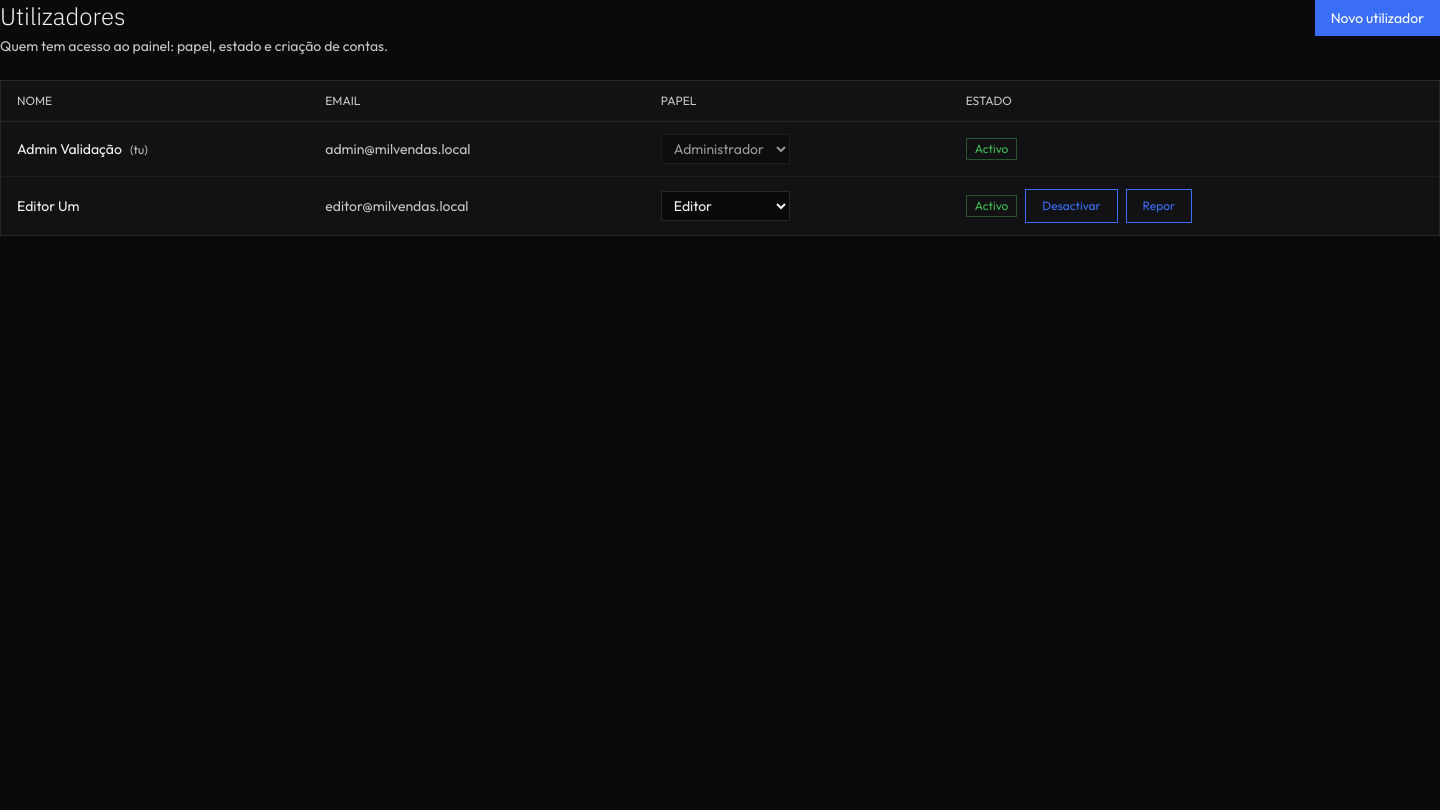
UsersPage › criação envia payload exacto {name,email,role,password}
The width and height of the screenshot is (1440, 810).
expect the text "Editor Um" is shown: met, box [1,176,309,235]
Click the button "Novo utilizador". click: (1377, 18)
box: [1315,0,1439,36]
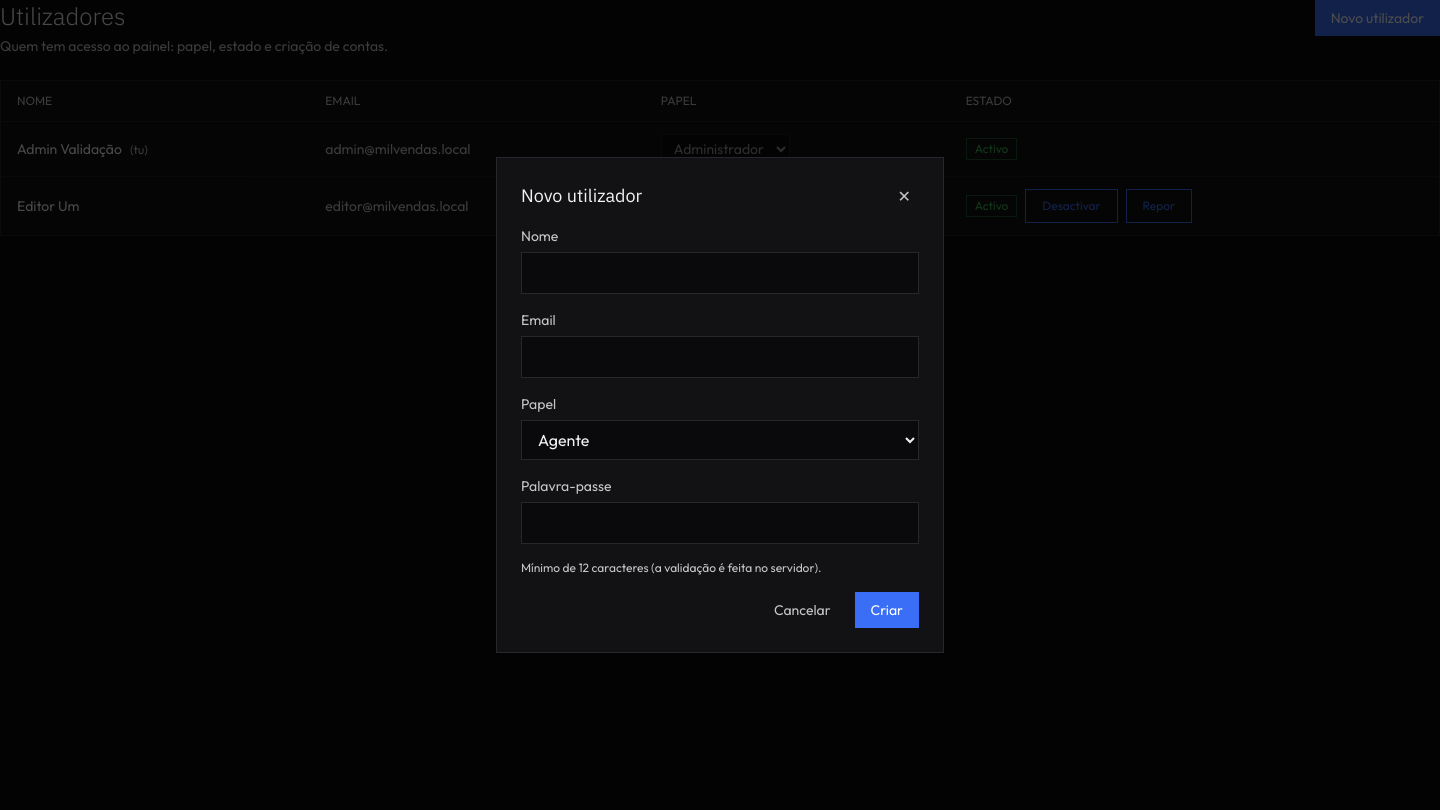
Type "Nova" into the field labelled "Nome". click: (720, 273)
box: [521,252,919,294]
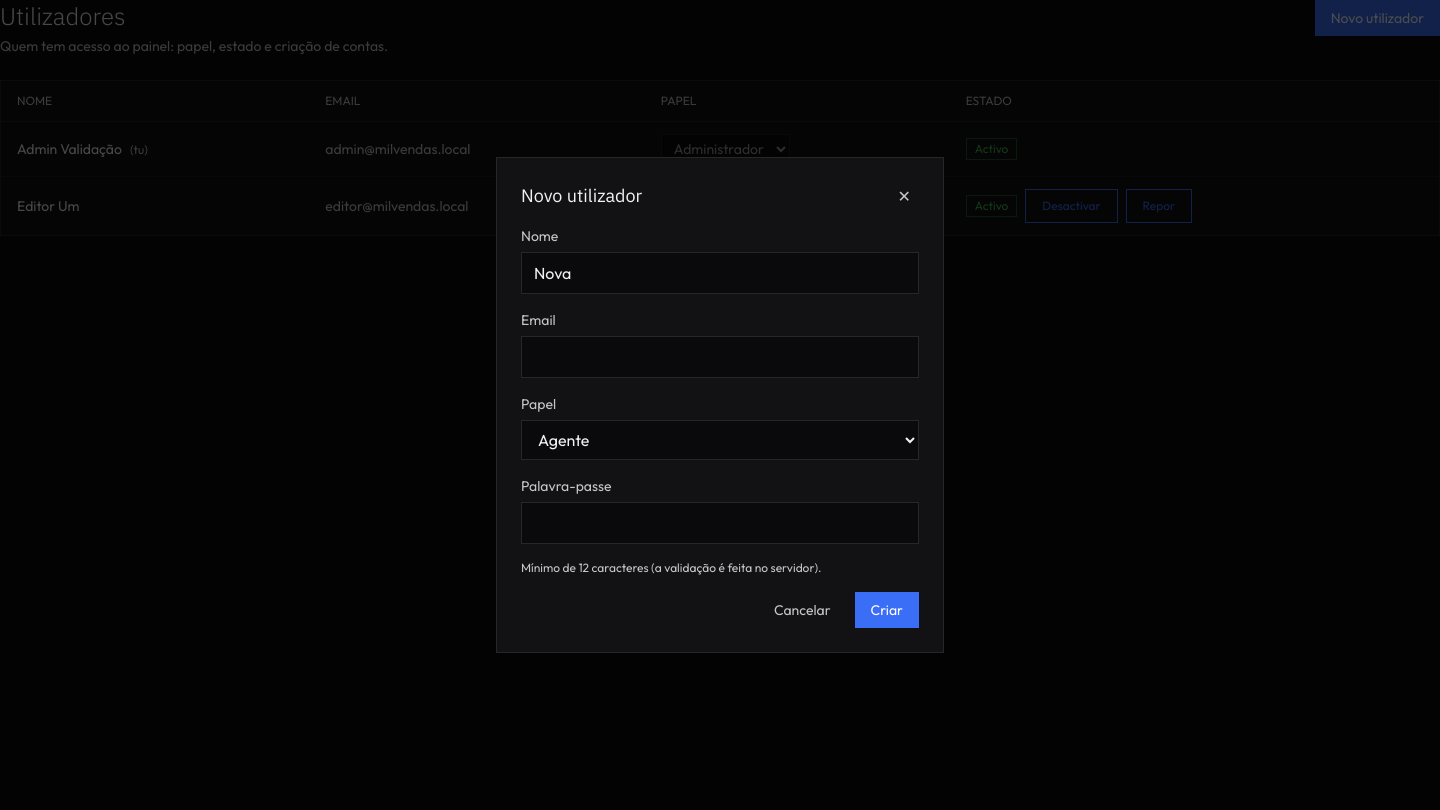
Type "nova@milvendas.local" into the field labelled "Email". click: (720, 357)
box: [521,336,919,378]
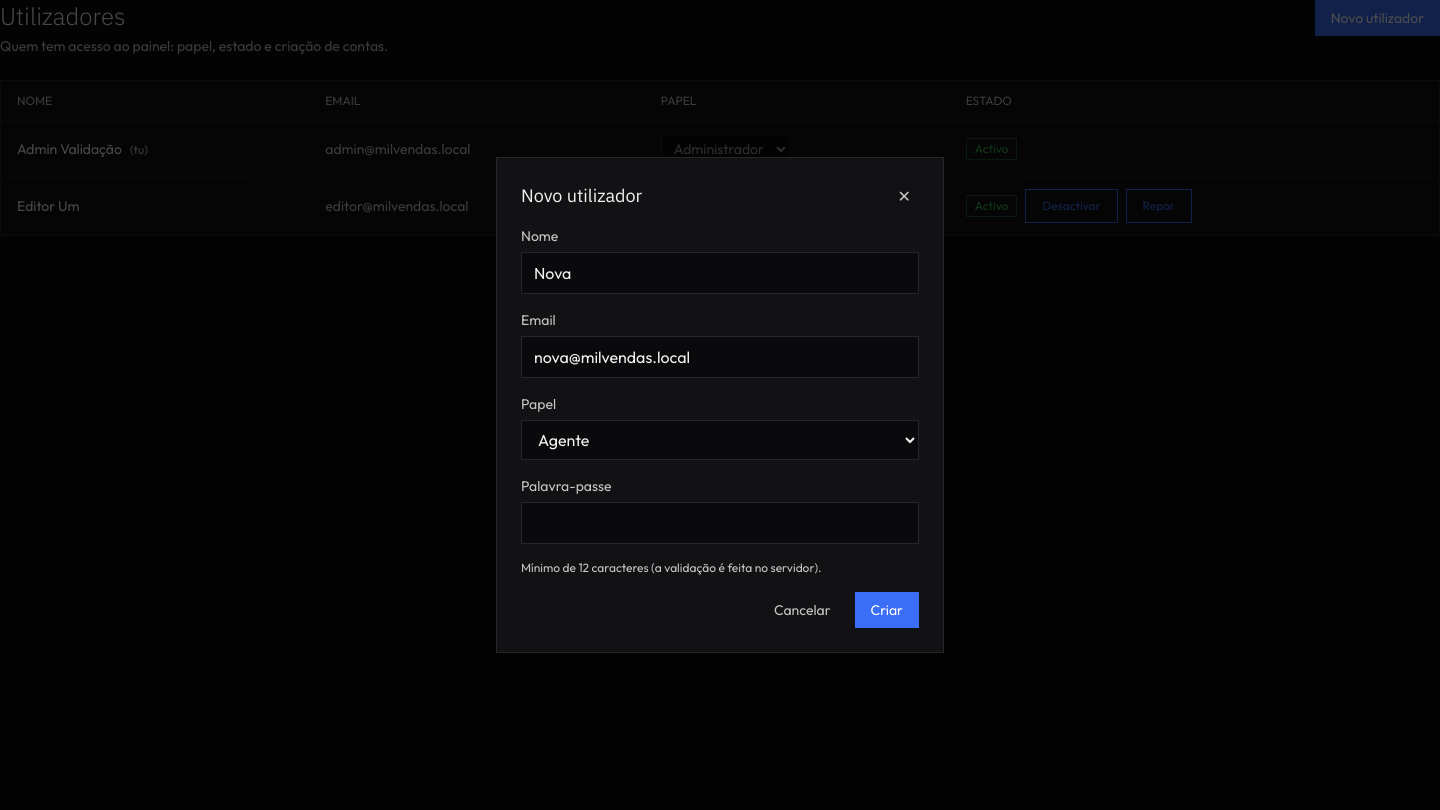
Select "Agente" in the dropdown labelled "Papel". click: (720, 440)
box: [521,420,919,460]
Type "senha-super-longa" into the password field labelled "Palavra-passe". click: (720, 523)
box: [521,502,919,544]
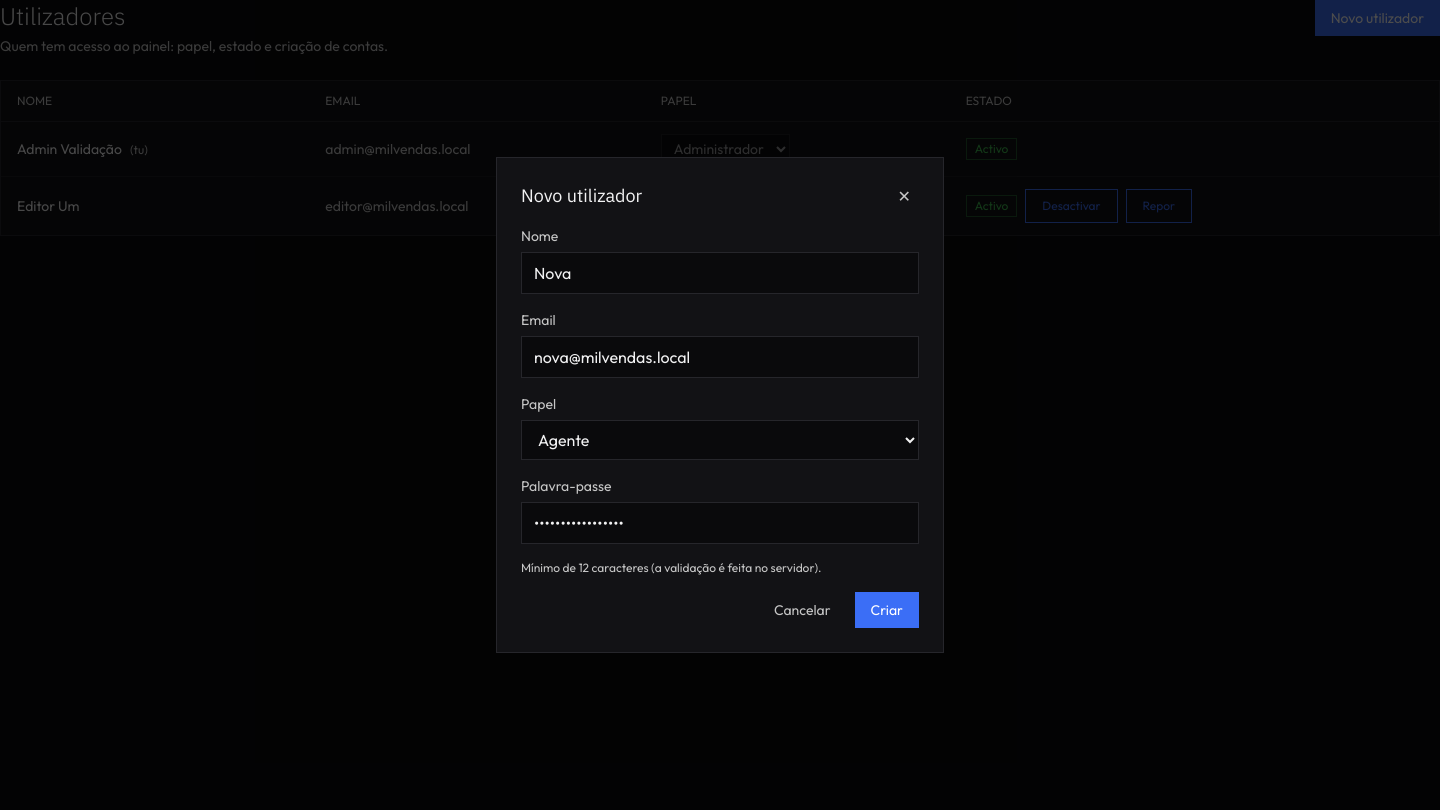
Click the button "Criar". click: (887, 610)
box: [855,592,919,628]
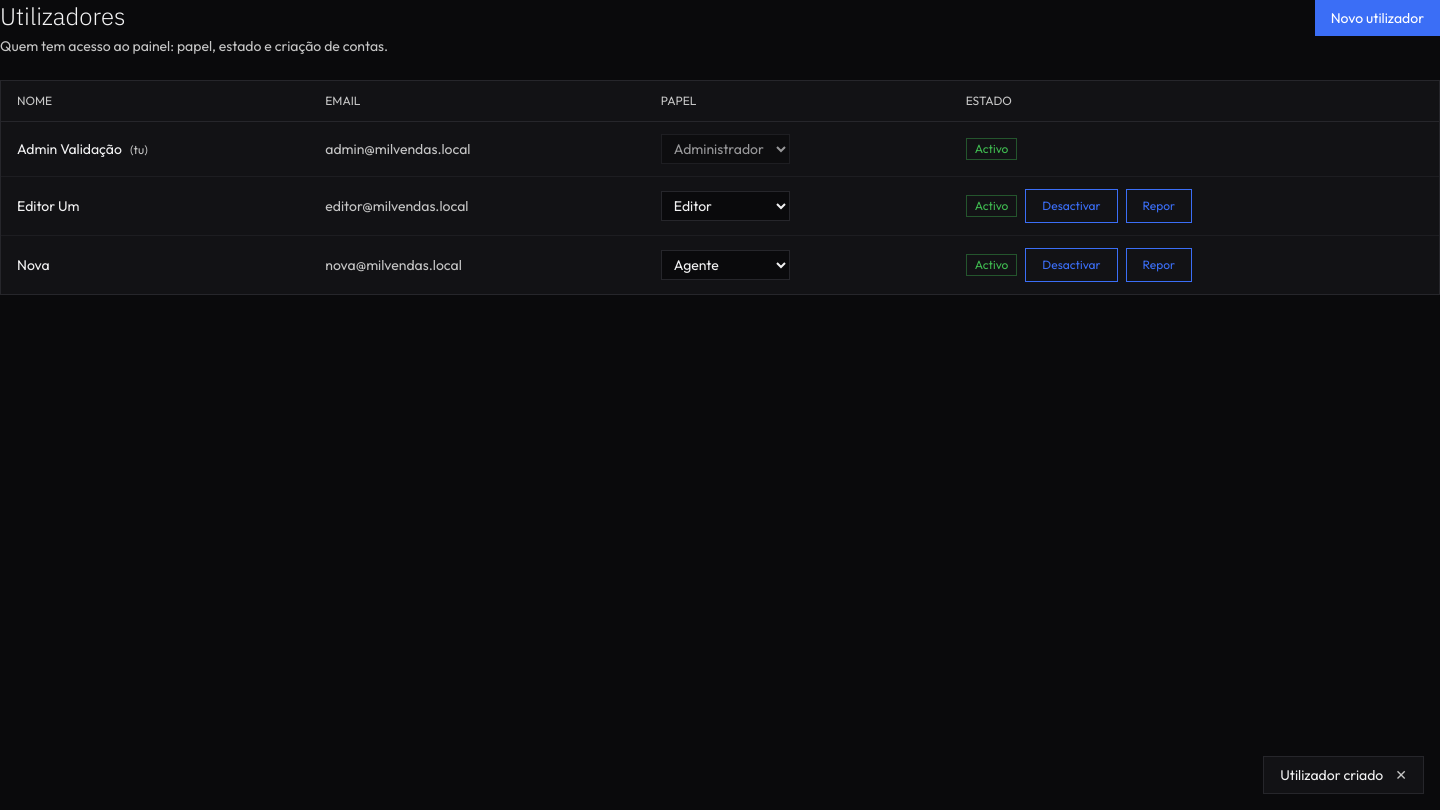
expect the text "nova@milvendas.local" is shown: met, box [309,236,645,294]
